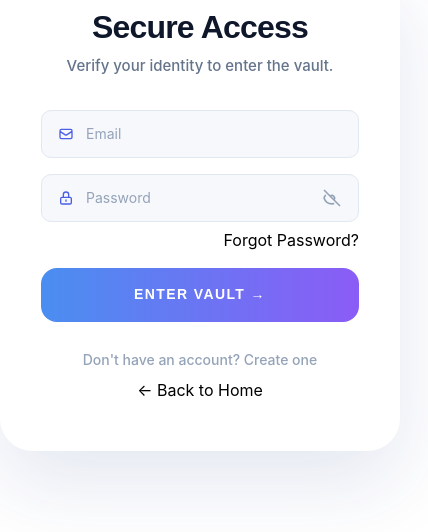
User Management Module - Viva Evidence Tests › Login Flow Verification › should show validation hint for valid SLIIT email format
In the field: (214,138) [86,128,342,148], type "it21000000@my.sliit.lk"
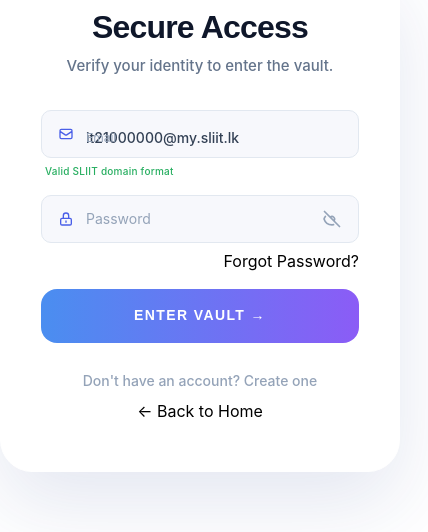
expect the text "Valid SLIIT domain format" is shown: met, box [45,164,174,176]
